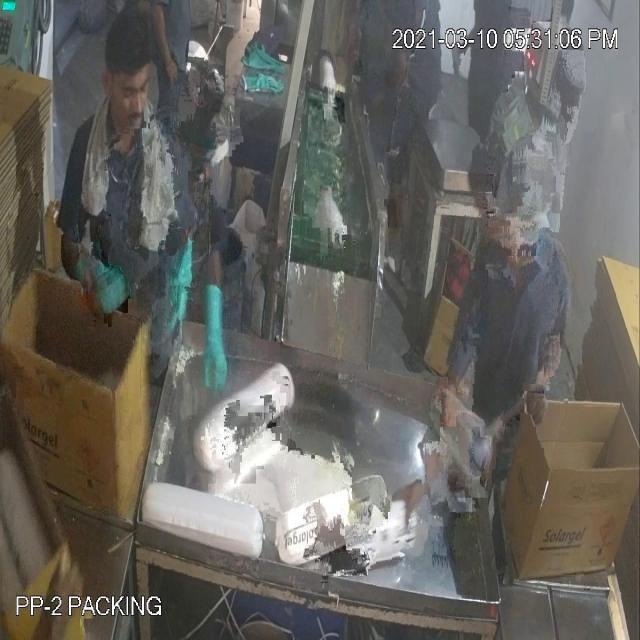Gloves: (51, 151, 521, 402)
